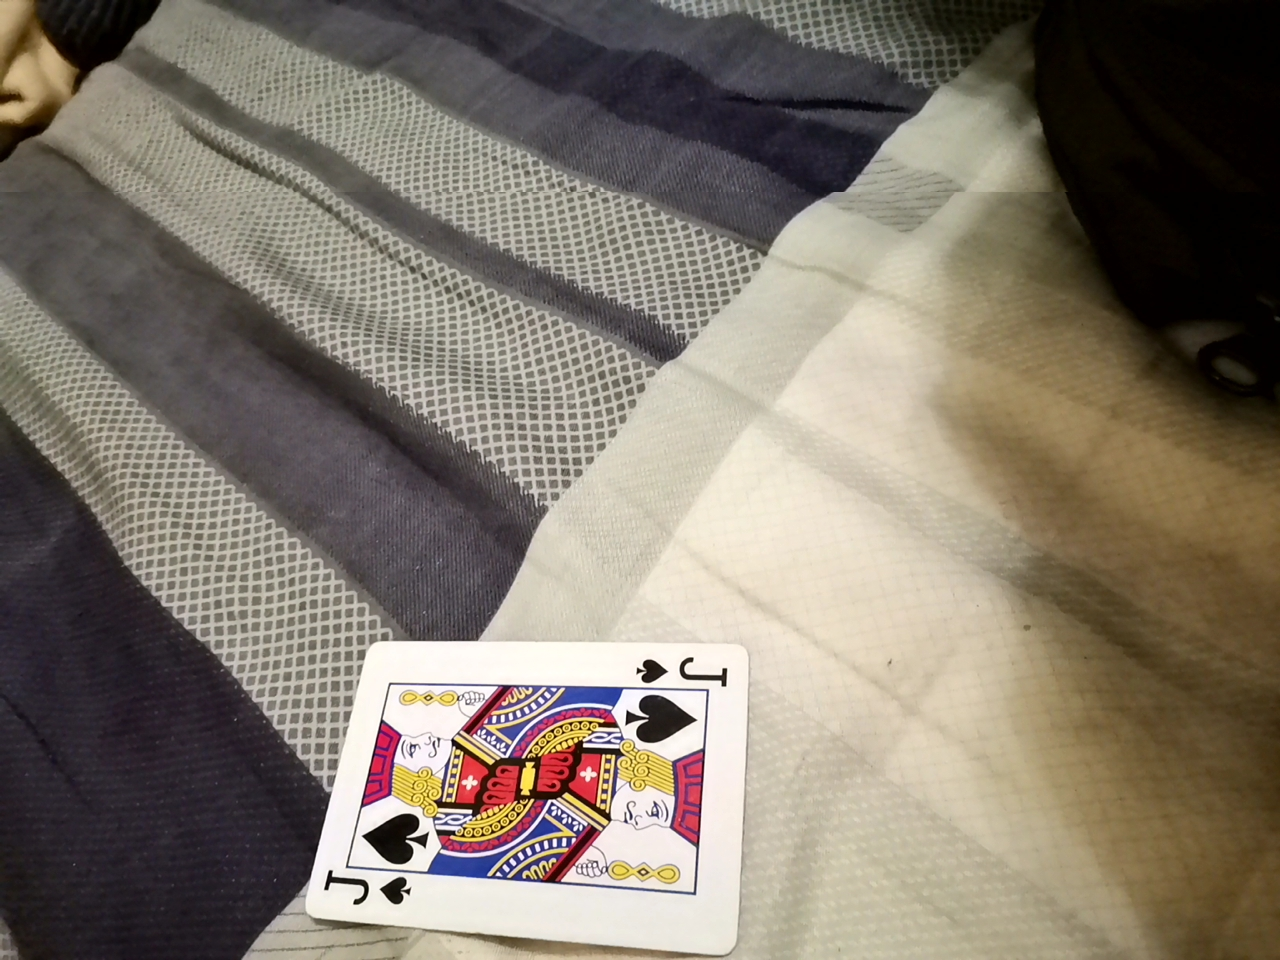ht j: (298, 656, 759, 949)
